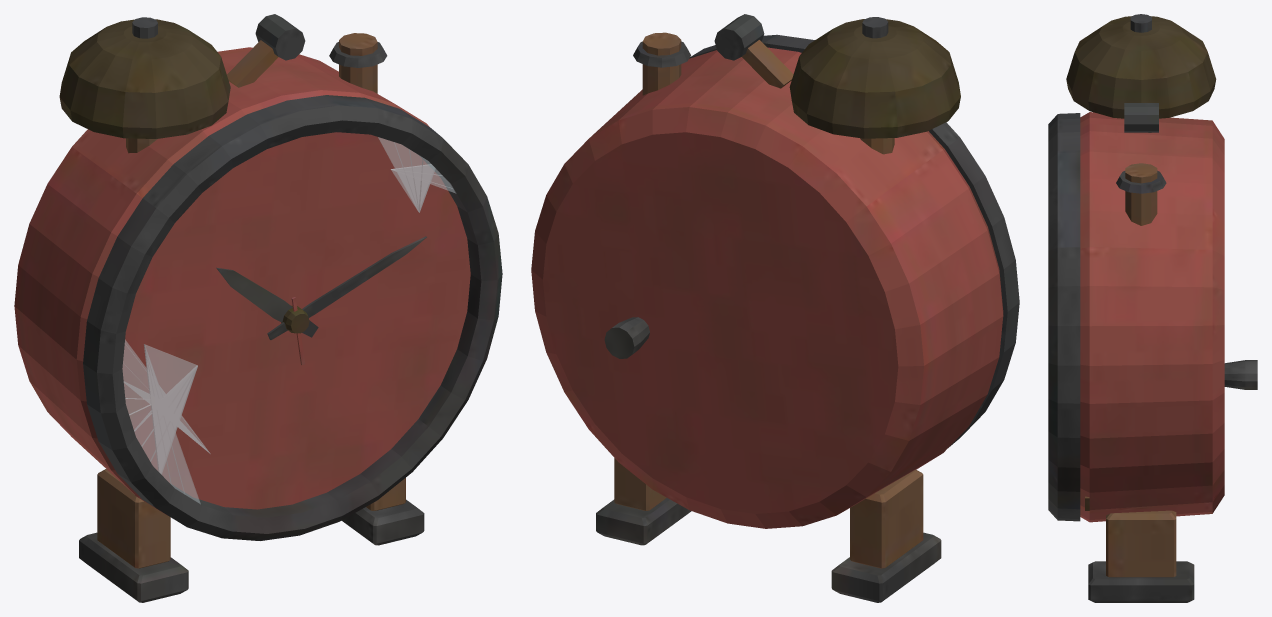
The model's file is BR24_broken_clock_v1.glb.
The picture shows the model from 3 angles, left to right: view 1: azimuth 30°, elevation 25°; view 2: azimuth 150°, elevation 25°; view 3: azimuth 270°, elevation 25°; orthographic projection. The views are drawn at different scales.
Parts seen in each view (by area): view 1: Factory alarm clock; view 2: Factory alarm clock; view 3: Factory alarm clock.
Part boxes in pixels (x1,y1,x2,y2): Factory alarm clock: (14, 14, 502, 602); Factory alarm clock: (531, 14, 1019, 602); Factory alarm clock: (1048, 14, 1257, 602).
Size of the model in its own units: 0.4651 by 0.6 by 0.2368.
8 materials, 7 textured.
